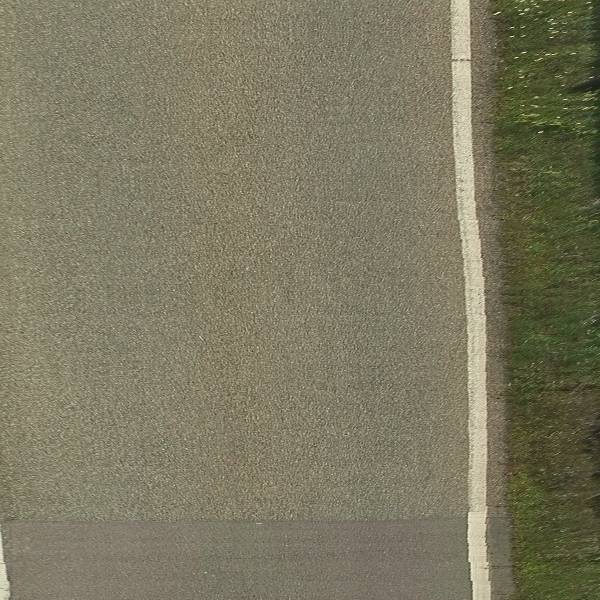road_damage: (1, 502, 503, 561)
